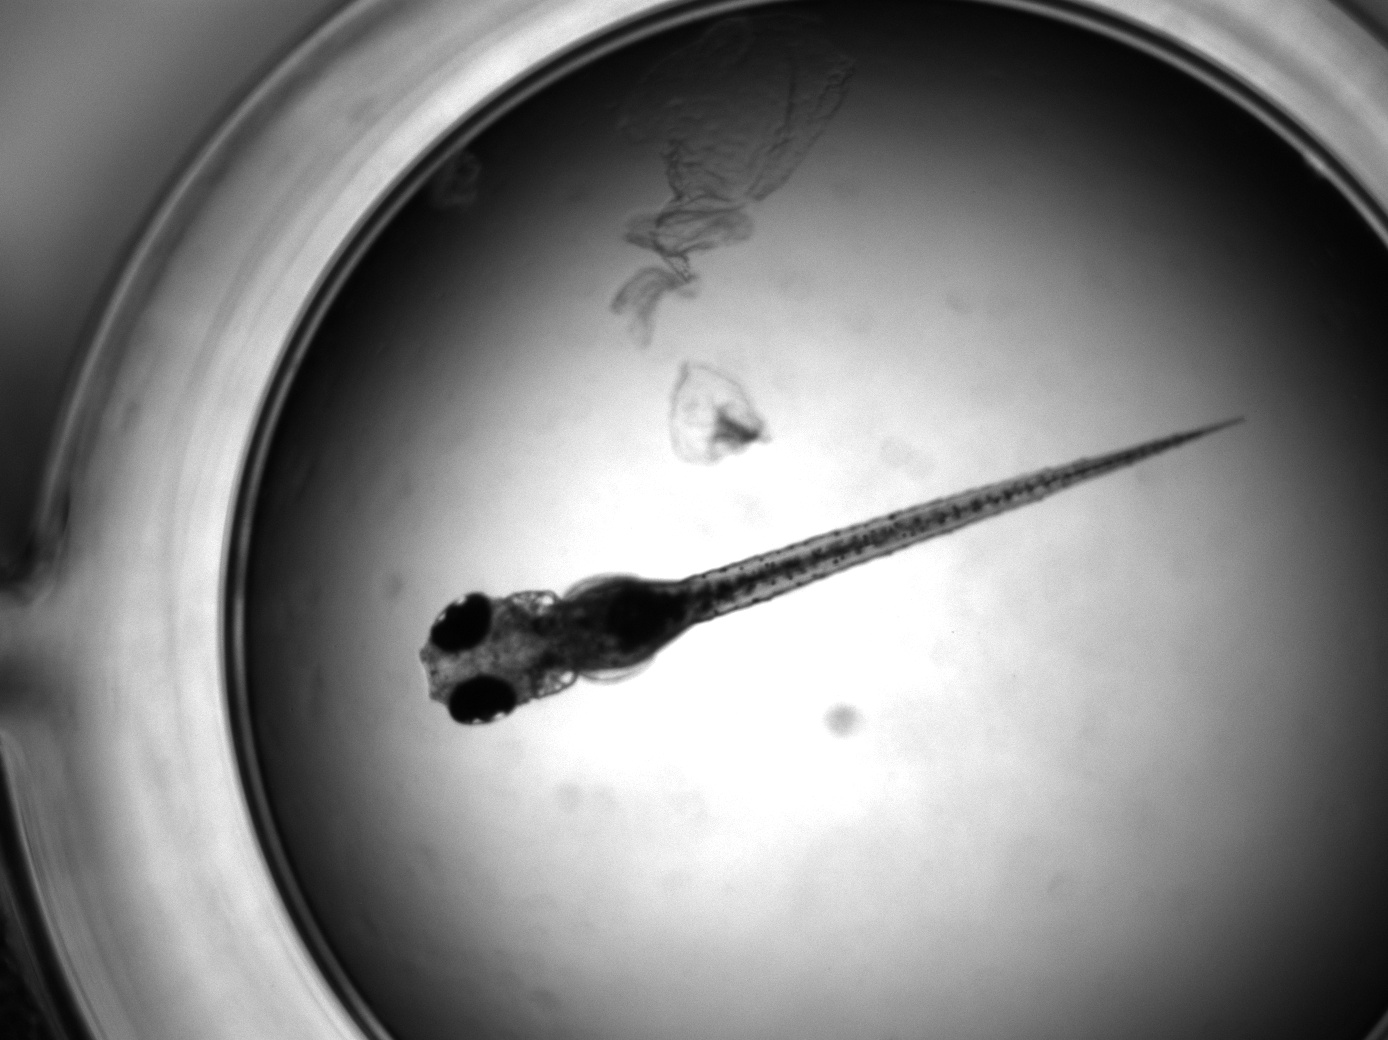debris: (609, 7, 858, 348), (666, 357, 769, 464)
embryo: (417, 414, 1248, 726)
eye: (428, 591, 493, 658), (444, 674, 520, 726)
yolksac: (560, 574, 693, 676)
